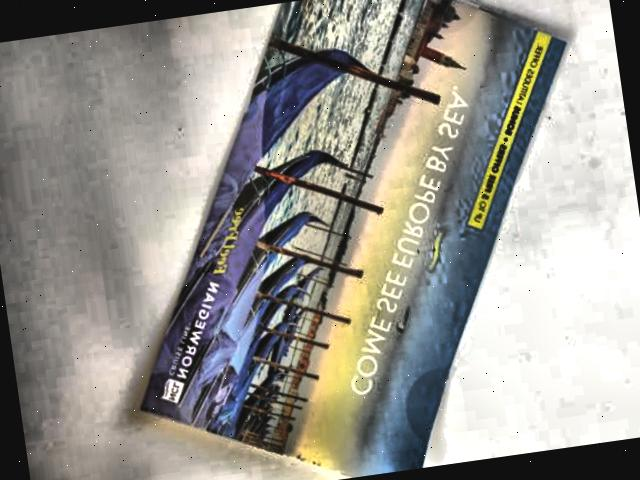Paper: (89, 0, 633, 480)
